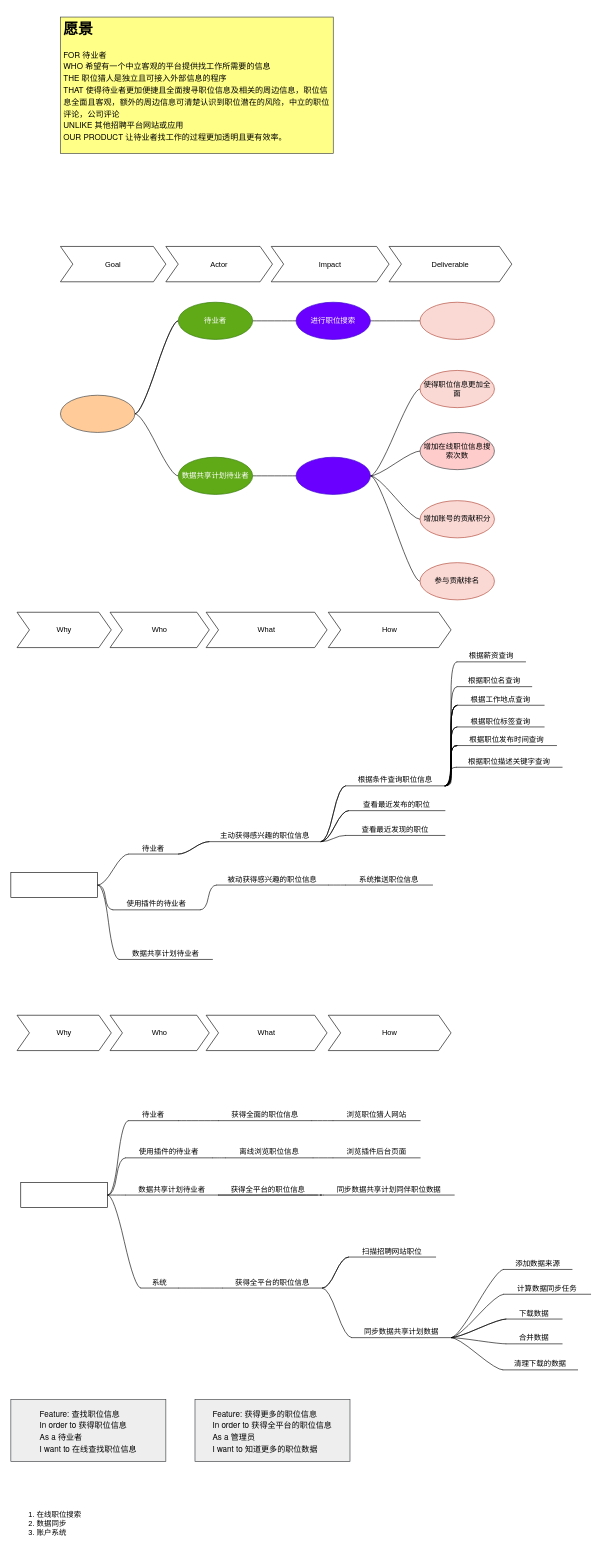
Image size: 601x1559. Some labels were removed from this diagram. Each missing label, with the box of its shape:
共享职位数据: (295, 457, 370, 494)
增加数据共享计划的人数到30人: (60, 395, 135, 432)
获得客观且感兴趣的职位信息: (10, 872, 98, 897)
获得更全面的职位信息: (419, 302, 494, 339)
获得更加全面和客观 职位信息: (20, 1182, 108, 1207)
